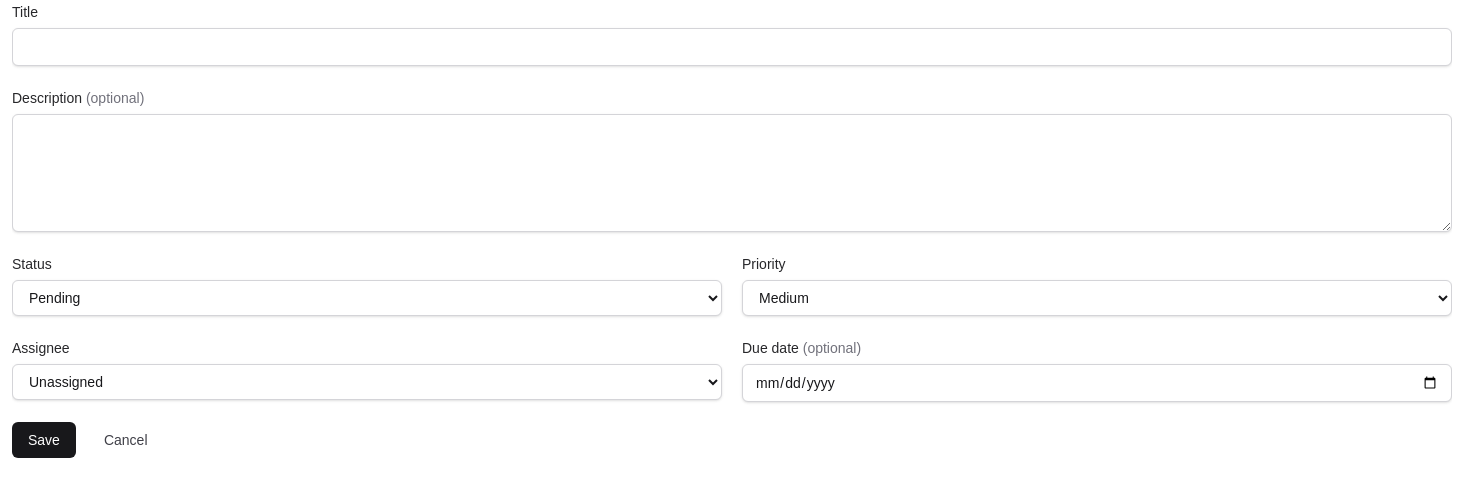
Test: TaskForm › keeps every entered value, including dropdowns, after a validation error
The width and height of the screenshot is (1464, 499).
In the text box labelled "Description (optional)": point(732, 173) [12,114,1452,232], type "Keep me"
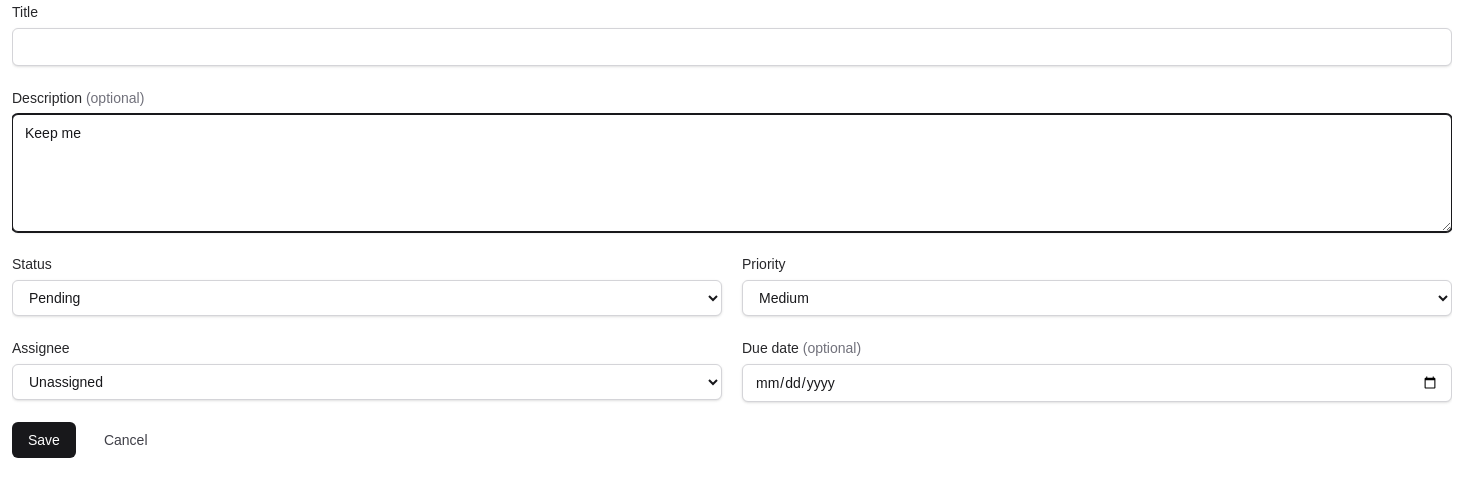
Select "In progress" in the dropdown labelled "Status": point(367, 298) [12,280,722,316]
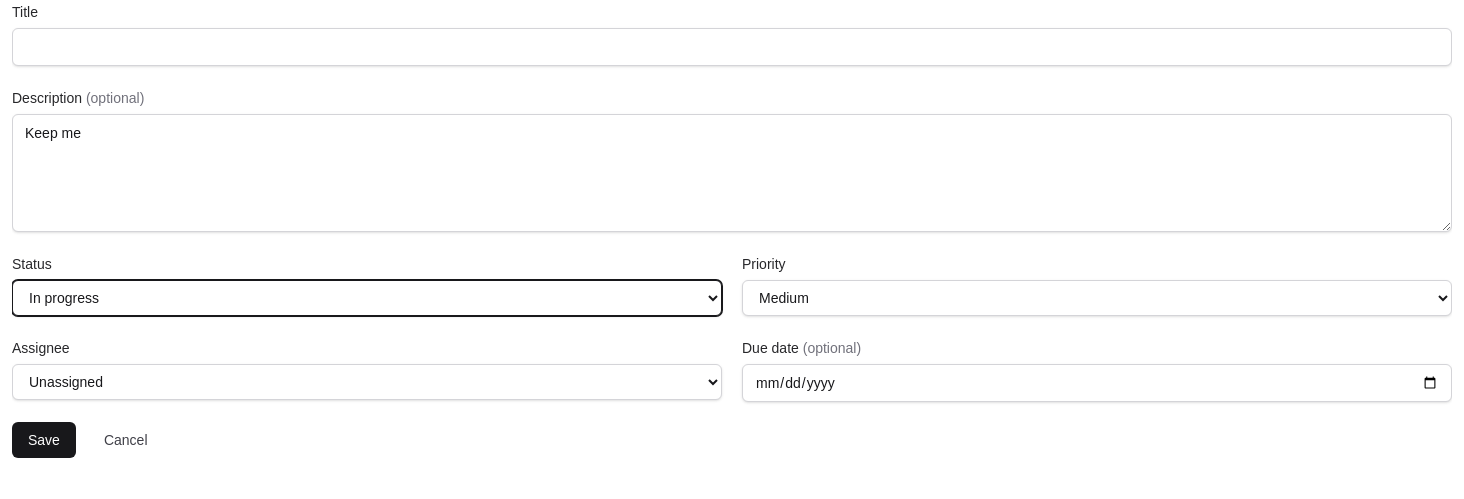
Select "High" in the dropdown labelled "Priority": point(1097, 298) [742,280,1452,316]
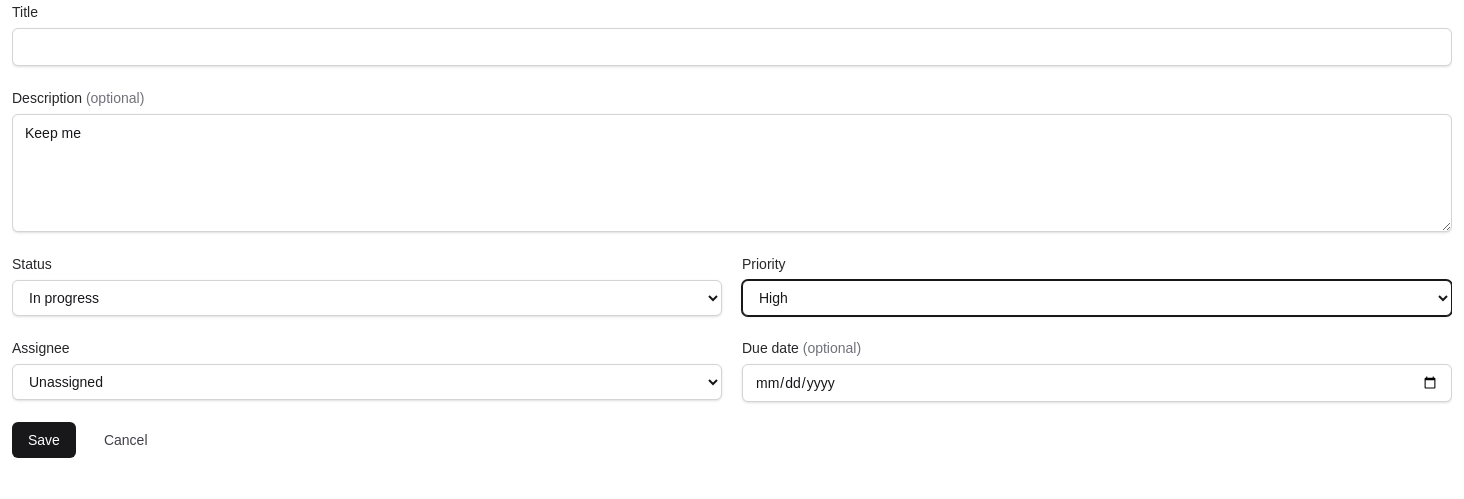
Select "Grace Hopper" in the dropdown labelled "Assignee": point(367, 382) [12,364,722,400]
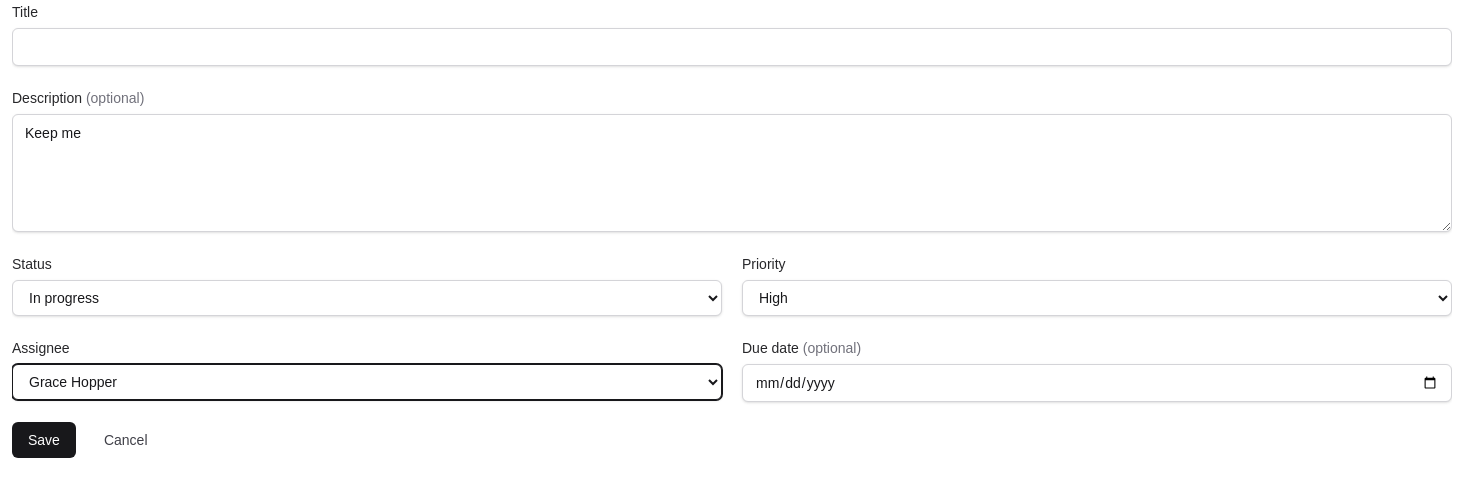
Click the button "Save": point(44, 440) [12,422,76,458]
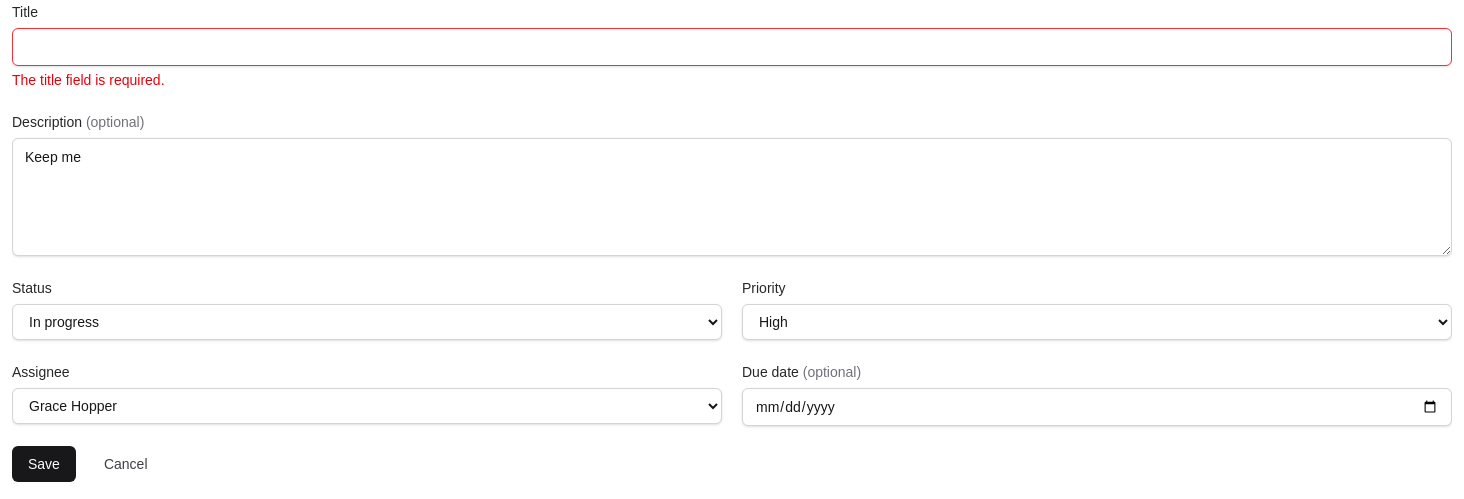
expect the dropdown labelled "Status" shows "In progress": met, box [12,304,722,340]
expect the dropdown labelled "Priority" shows "High": met, box [742,304,1452,340]
expect the text "The title field is required." is shown: met, box [12,72,164,88]
